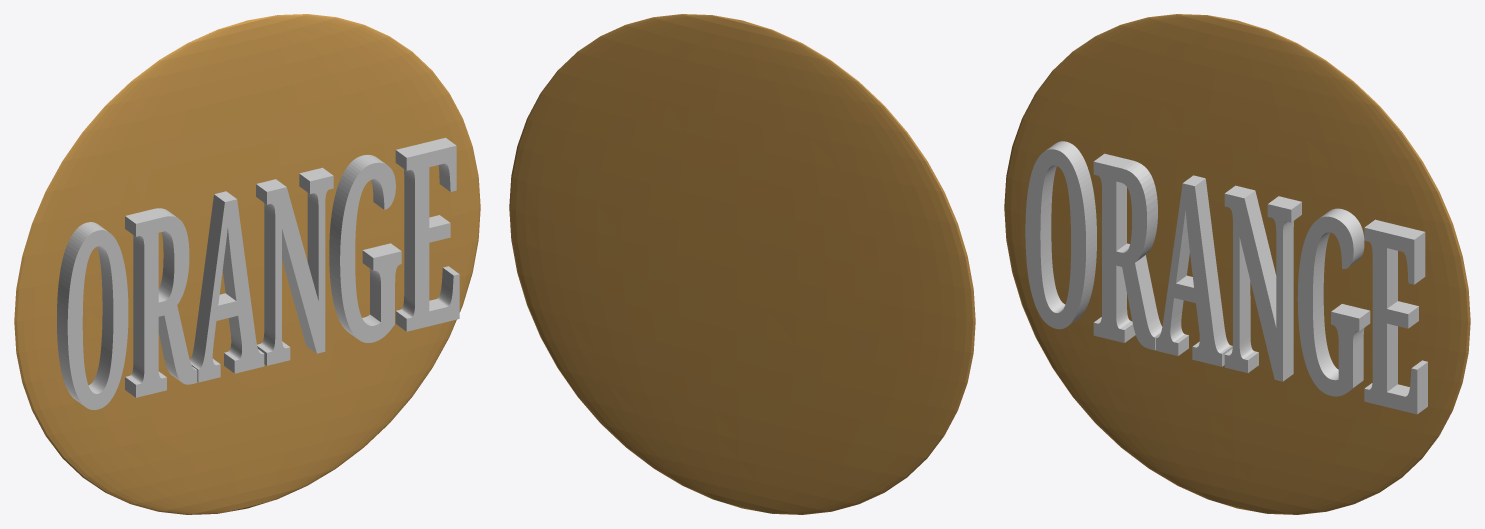
The model's file is orange button.glb.
3 views of the same model, side by side, from view 1: azimuth 30°, elevation 25°; view 2: azimuth 150°, elevation 25°; view 3: azimuth 330°, elevation 25° (orthographic).
Parts seen in each view (by area): view 1: Mesh_Mesh_head_geo.001_lambert2SG.001; view 2: Mesh_Mesh_head_geo.001_lambert2SG.001; view 3: Mesh_Mesh_head_geo.001_lambert2SG.001.
Boxes of the visible parts, box(x1,y1,x2,y2) form: Mesh_Mesh_head_geo.001_lambert2SG.001: box(14, 14, 480, 514); Mesh_Mesh_head_geo.001_lambert2SG.001: box(509, 14, 975, 514); Mesh_Mesh_head_geo.001_lambert2SG.001: box(1004, 14, 1470, 514).
Bounding box in the file's own units: 25 × 25 × 2.
